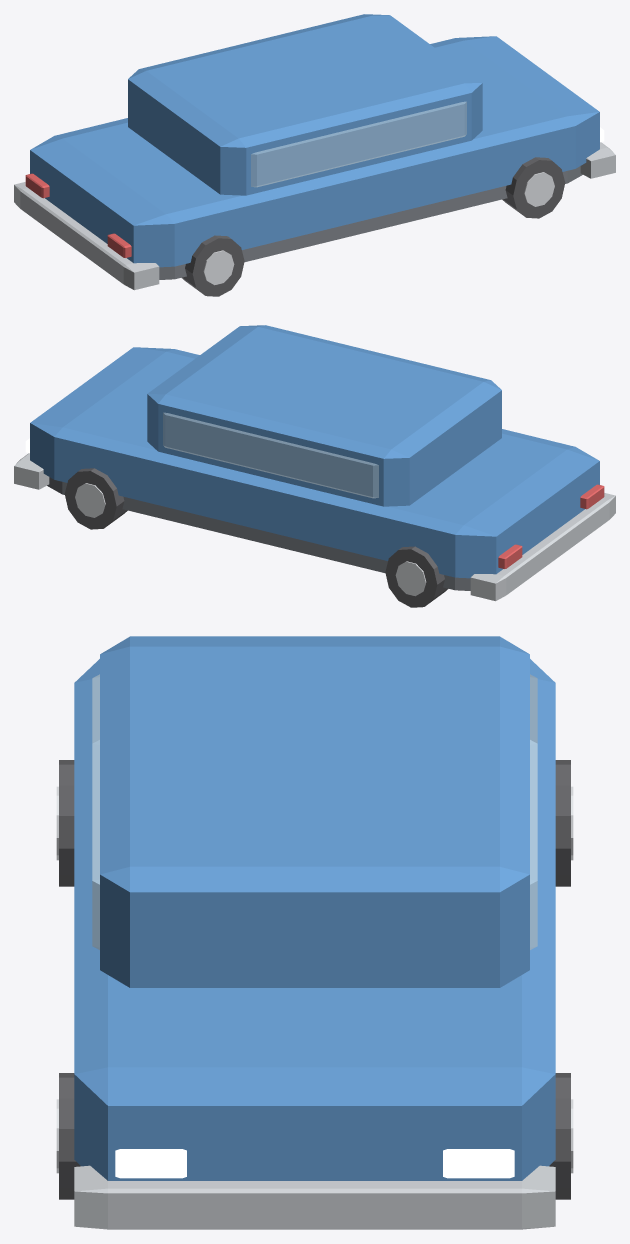
The model's file is b03_classic_muscle_coupe.glb.
The picture shows the model from 3 angles, top to bottom: view 1: azimuth 30°, elevation 25°; view 2: azimuth 150°, elevation 25°; view 3: azimuth 270°, elevation 25°; orthographic projection. The views are drawn at different scales.
Parts seen in each view (by area): view 1: b03_classic_muscle_coupe; view 2: b03_classic_muscle_coupe; view 3: b03_classic_muscle_coupe.
Boxes of the visible parts, left/top/right/bottom form: b03_classic_muscle_coupe: left=14, top=14, right=615, bottom=296; b03_classic_muscle_coupe: left=14, top=325, right=615, bottom=607; b03_classic_muscle_coupe: left=56, top=636, right=573, bottom=1229.
Size of the model in its own units: 5.09 by 1.36 by 2.34.
